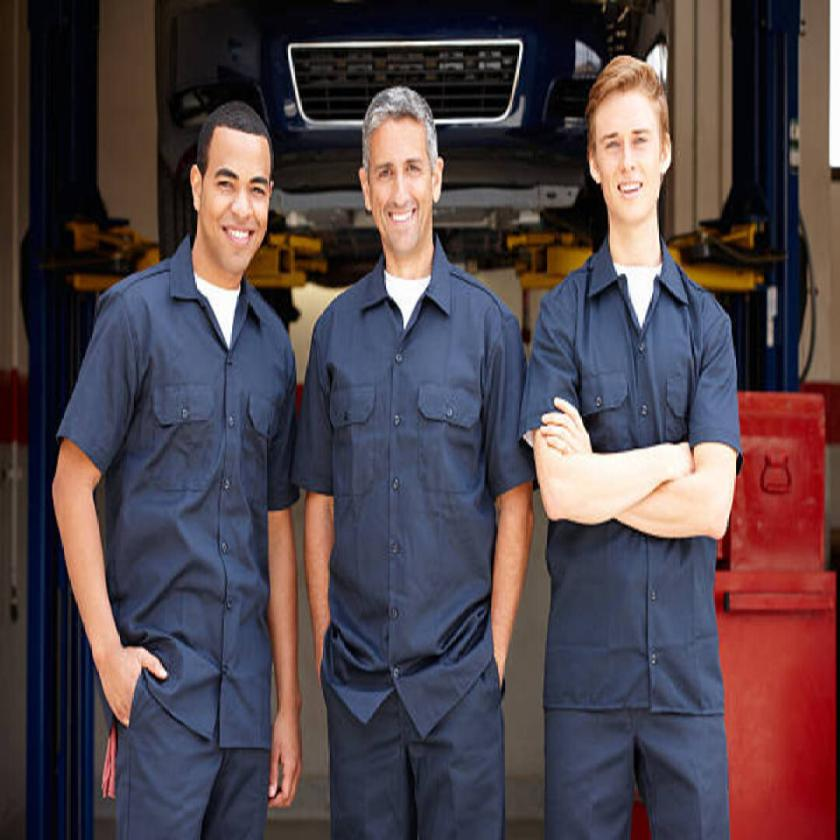Sin_casco: (585, 52, 671, 234), (192, 99, 275, 287), (357, 83, 446, 251)
